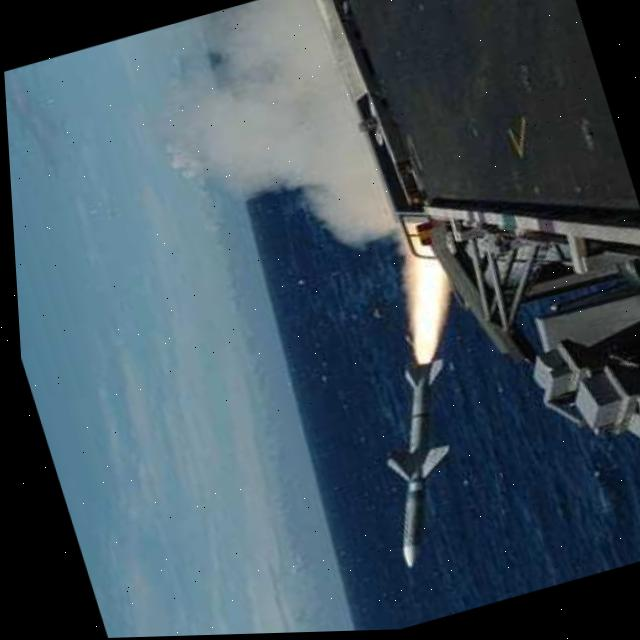missile: (337, 356, 498, 574)
